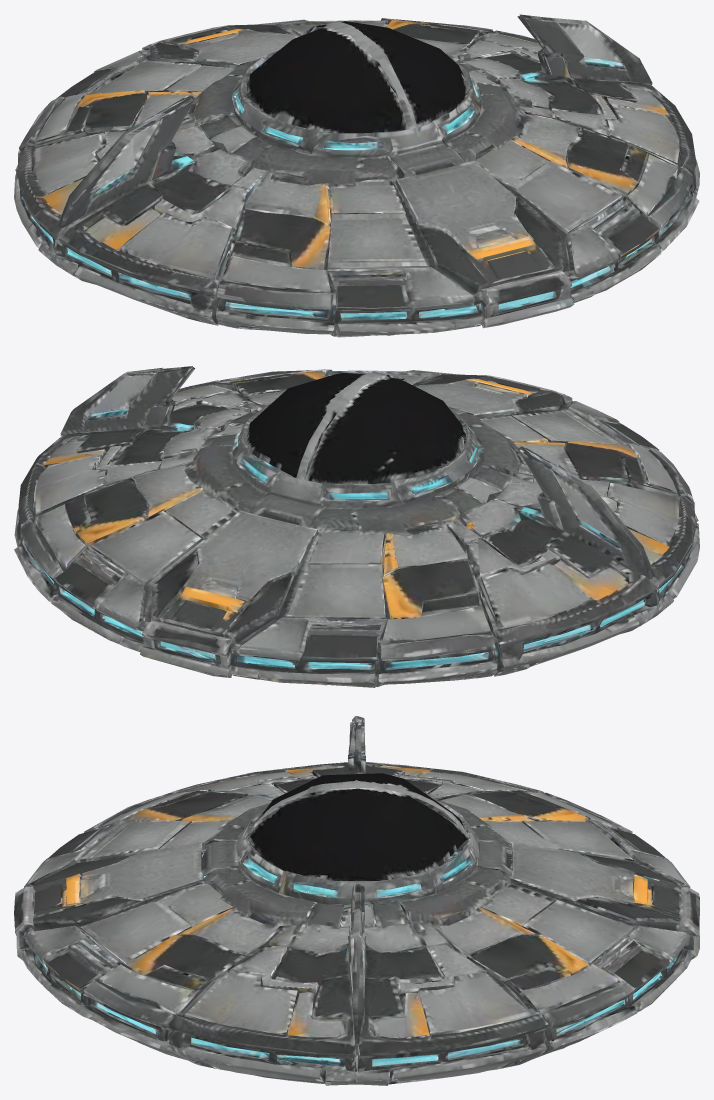
File: probe_ufo.glb
The picture shows the model from 3 angles, top to bottom: view 1: azimuth 30°, elevation 25°; view 2: azimuth 150°, elevation 25°; view 3: azimuth 270°, elevation 25°; orthographic projection.
Bounding box in the file's own units: 0.9531 × 0.4014 × 0.9527.
1 material, 1 textured.
